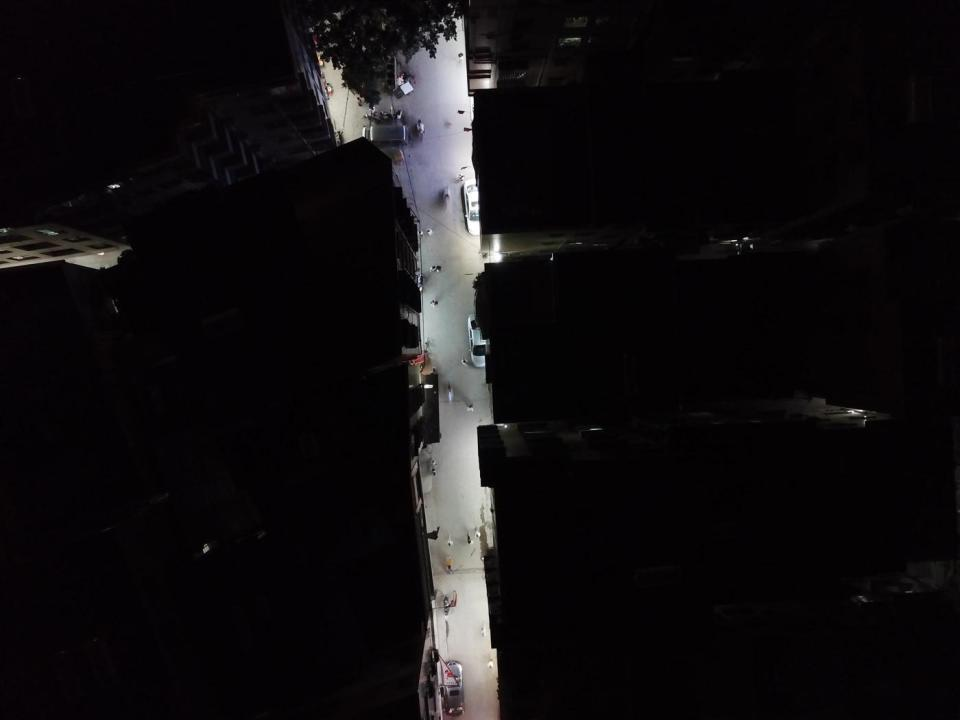car: (463, 178, 493, 235), (468, 313, 495, 367), (444, 660, 464, 716)
van: (361, 125, 409, 147)
